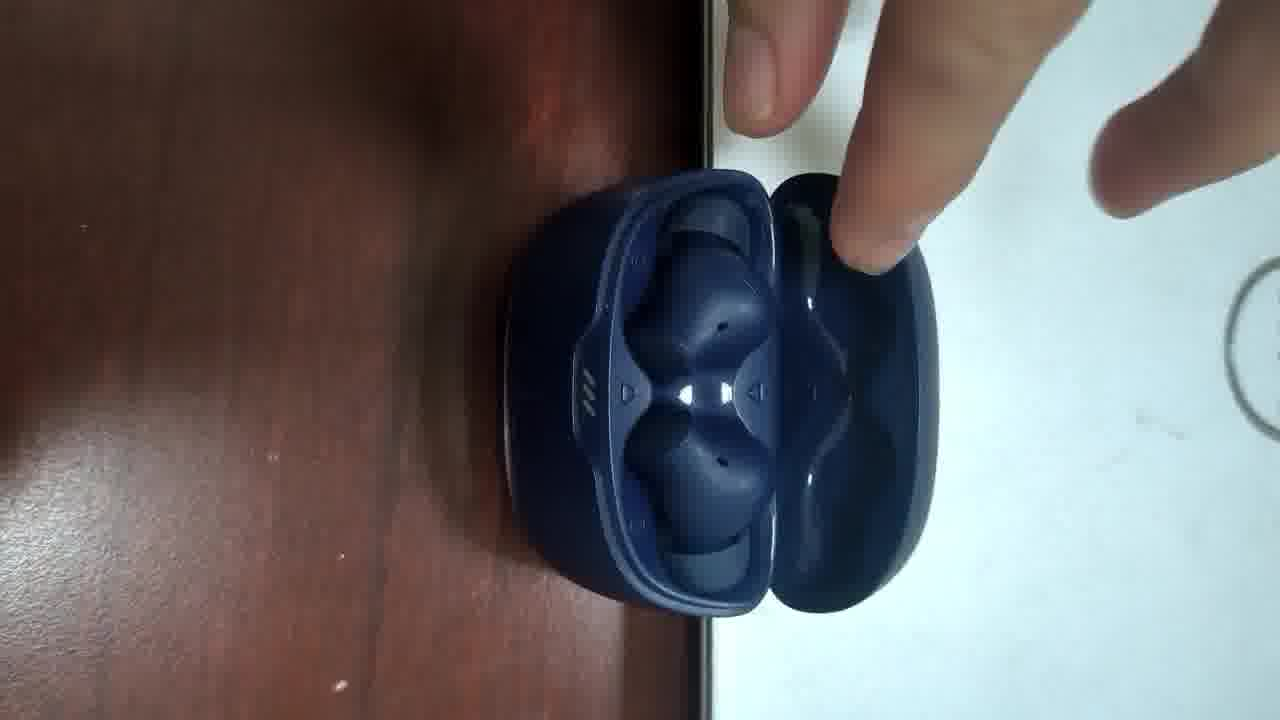Earbud: (624, 202, 774, 590), (626, 407, 769, 553)
